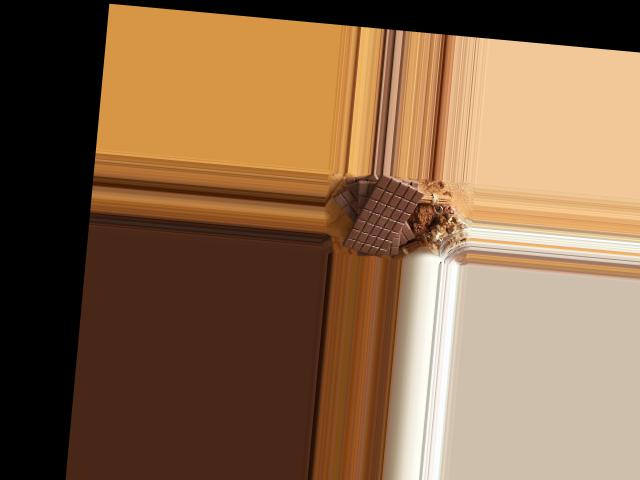chocolate: (341, 171, 429, 258)
